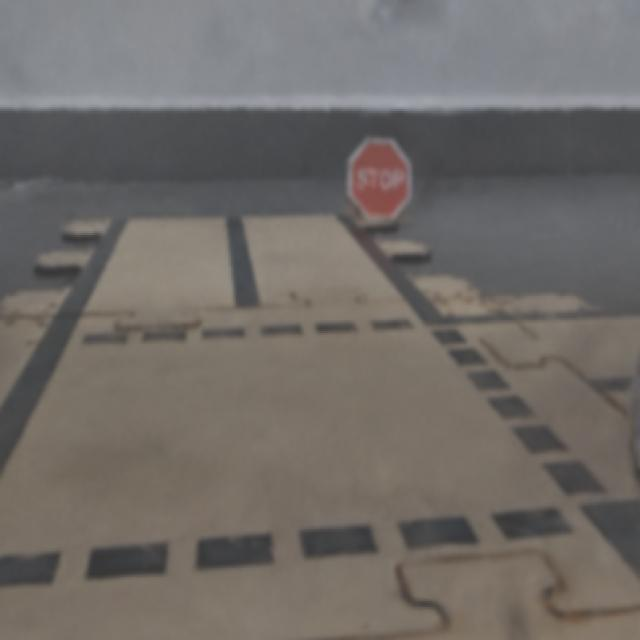STOP: (347, 139, 411, 218)
